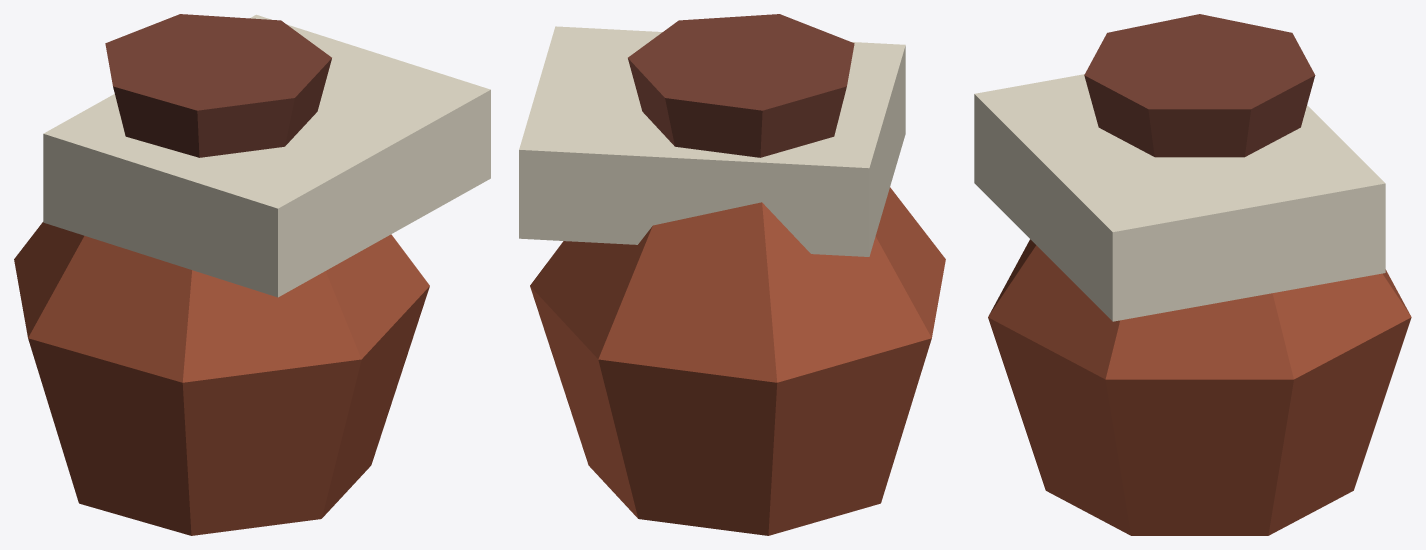
The model's file is work-jug.glb.
3 views of the same model, side by side, from view 1: azimuth 30°, elevation 25°; view 2: azimuth 150°, elevation 25°; view 3: azimuth 270°, elevation 25° (orthographic).
Parts seen in each view (by area): view 1: work-jug; view 2: work-jug; view 3: work-jug.
Boxes of the visible parts, <box> form: work-jug: <box>14,14,490,535</box>; work-jug: <box>519,14,945,535</box>; work-jug: <box>974,14,1411,535</box>.
Bounding box in the file's own units: 0.4942 × 0.46 × 0.4427.
1 material, 1 textured.
